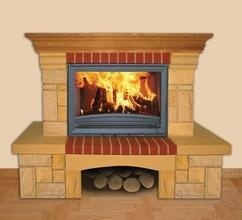fire: (75, 69, 157, 111)
